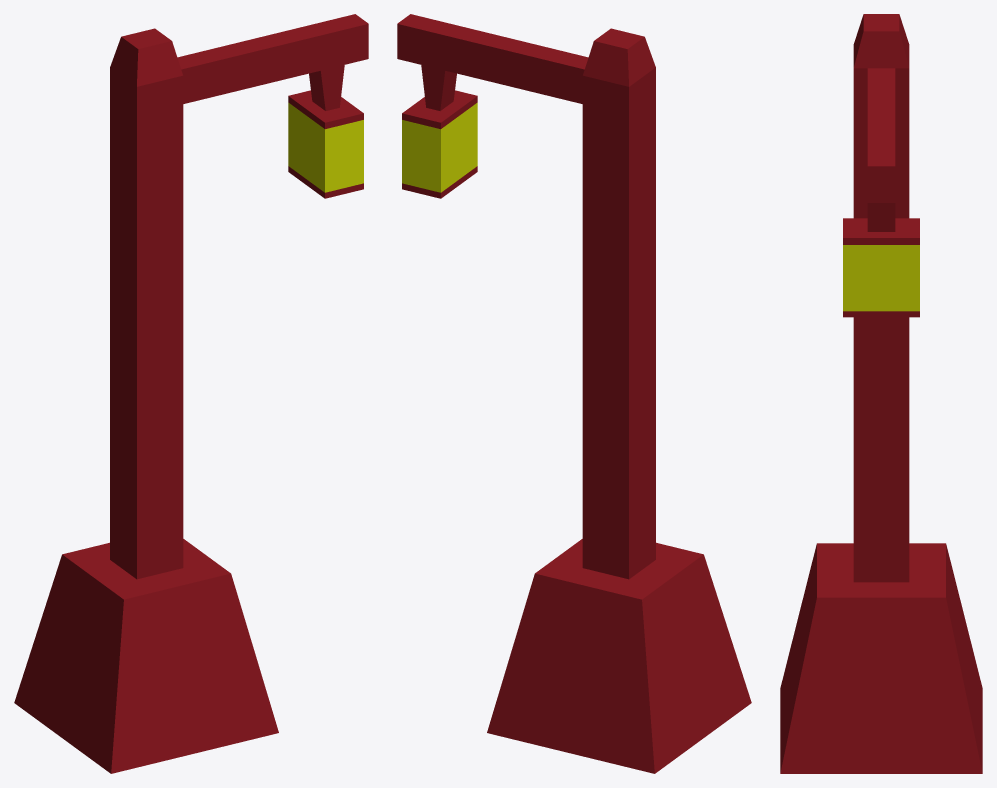
File: Lights2.fbx
3 renders of one model, left to right at view 1: azimuth 30°, elevation 25°; view 2: azimuth 150°, elevation 25°; view 3: azimuth 270°, elevation 25°, orthographic. The views are drawn at different scales.
Parts seen in each view (by area): view 1: pCube28; view 2: pCube28; view 3: pCube28.
Boxes of the visible parts, <box> form: pCube28: <box>14,14,368,773</box>; pCube28: <box>397,14,751,773</box>; pCube28: <box>780,14,982,773</box>.
Bounding box in the file's own units: 3.77 × 8.16 × 2.11.
